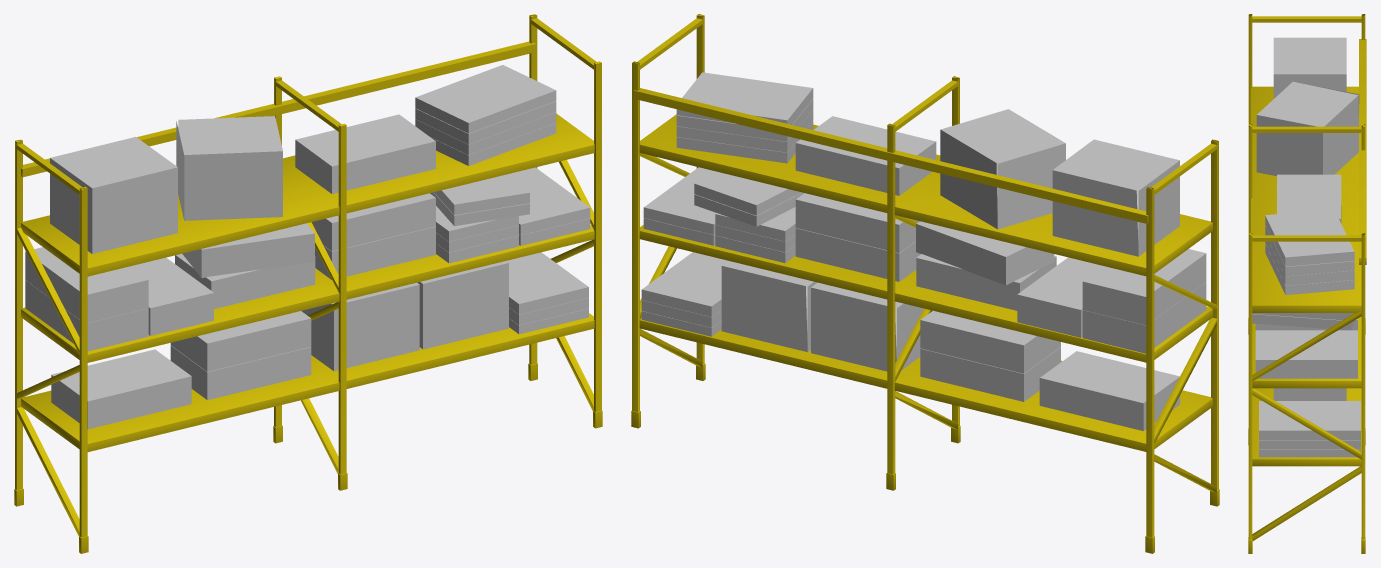
File: aws_robomaker_warehouse_ShelfD_01_visual.DAE
3 views of the same model, side by side, from view 1: azimuth 30°, elevation 25°; view 2: azimuth 150°, elevation 25°; view 3: azimuth 270°, elevation 25° (orthographic). The views are drawn at different scales.
Visible parts, largest first — view 1: aws_robomaker_warehouse_ShelfD_01_visual; view 2: aws_robomaker_warehouse_ShelfD_01_visual; view 3: aws_robomaker_warehouse_ShelfD_01_visual.
Boxes of the visible parts, box(x1,y1,x2,y2) form: aws_robomaker_warehouse_ShelfD_01_visual: box(14, 14, 602, 553); aws_robomaker_warehouse_ShelfD_01_visual: box(631, 14, 1219, 553); aws_robomaker_warehouse_ShelfD_01_visual: box(1248, 14, 1366, 553).
Bounding box in the file's own units: 392 × 87.95 × 261.
